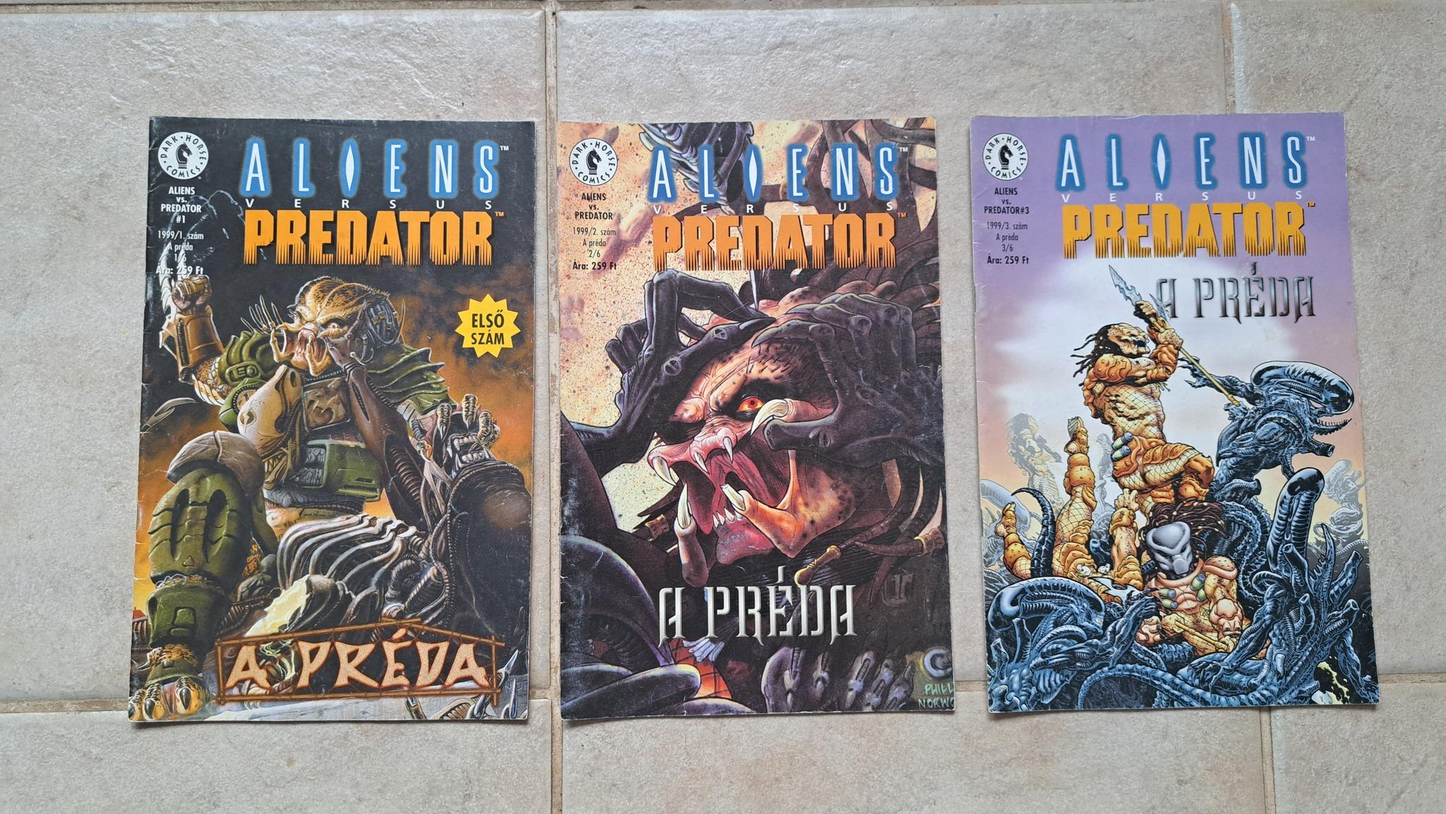comic: (130, 111, 544, 731), (968, 103, 1376, 717), (555, 119, 953, 718)
